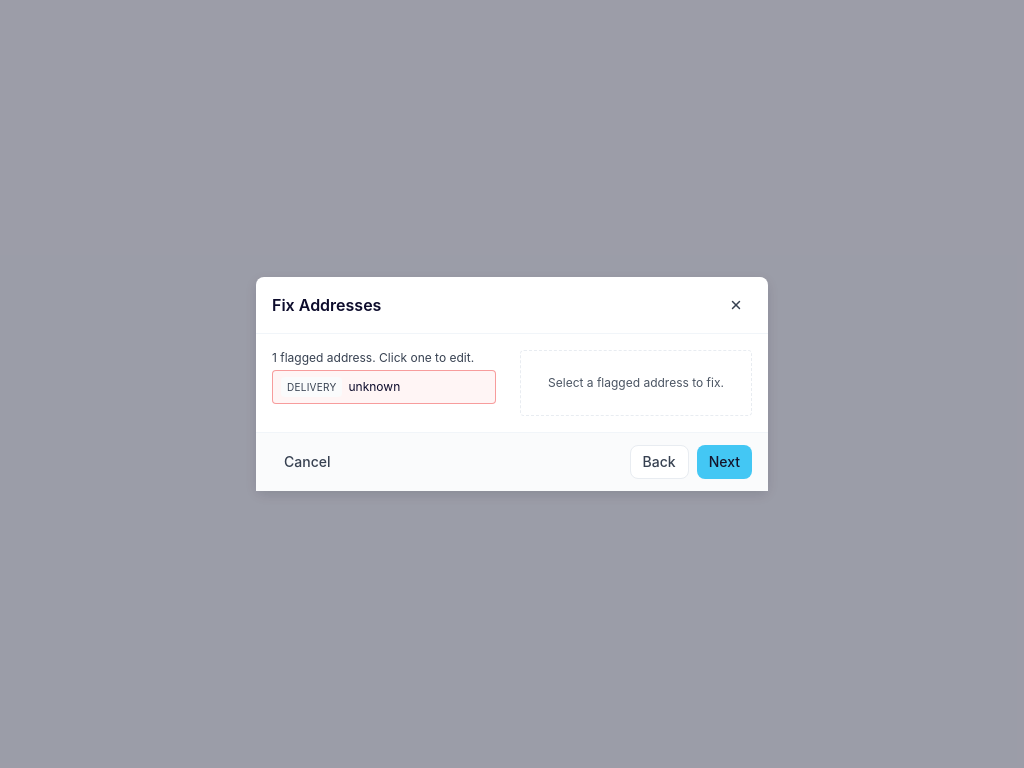
it: FixAddressesModal › renders fallback lat/lng inputs when no Google Maps key configured
What coordinates should you click on to do the following:
click the button "Delivery unknown"
I would click on:
 (384, 387)
Its box is [272,370,496,404].
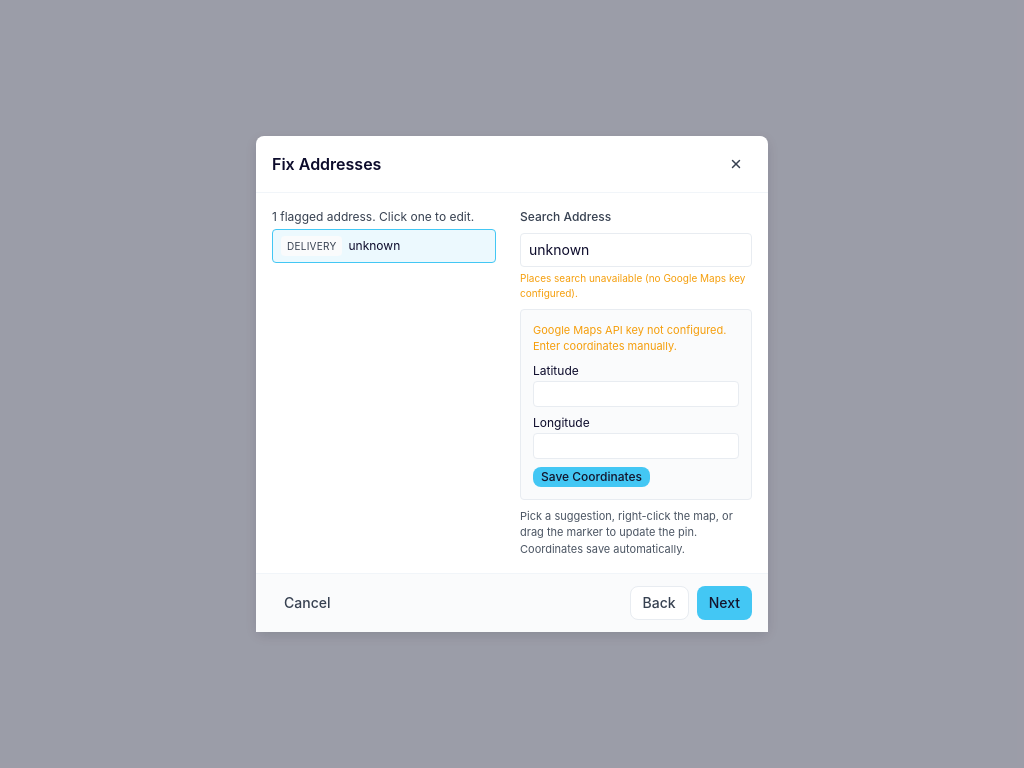
Expected: the text "Latitude" is shown, [533,363,739,407]
Expected: the text "Longitude" is shown, [533,415,739,459]
